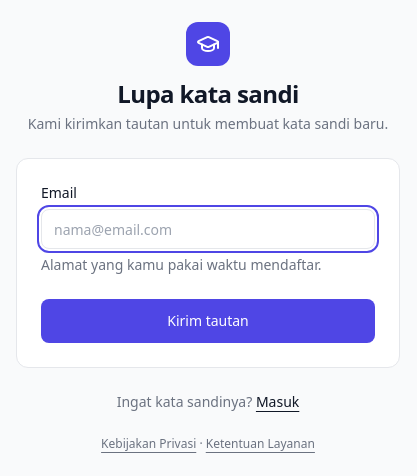
Test: ForgotPasswordPage › never claims the address is registered
In the field labelled "Email": (208, 229) [41,209,375,249], type "murid@example.com"
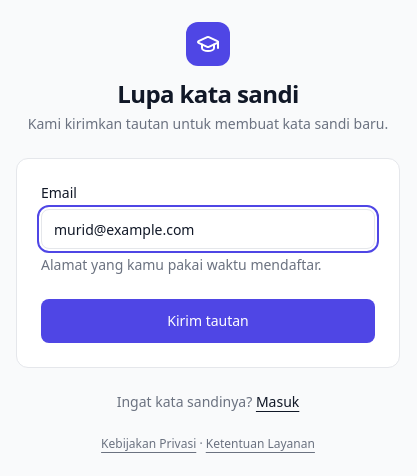
Click the button "Kirim tautan": (208, 321) [41,299,375,343]
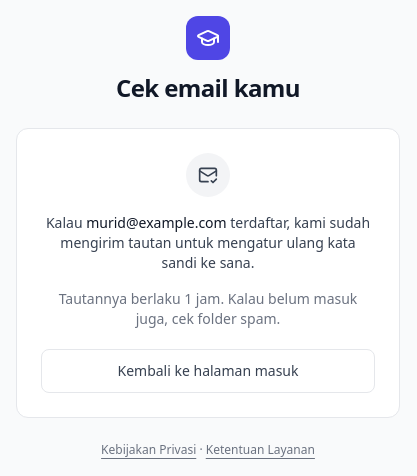
Expected: the heading "Cek email kamu" is shown, [116,72,300,104]
Expected: the text "Kalau" is shown, [46,213,86,232]
